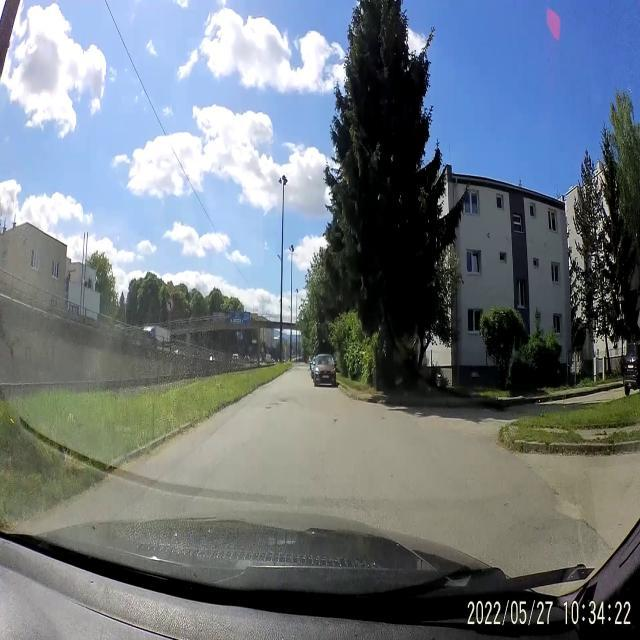Pothole: (264, 394, 292, 412)
